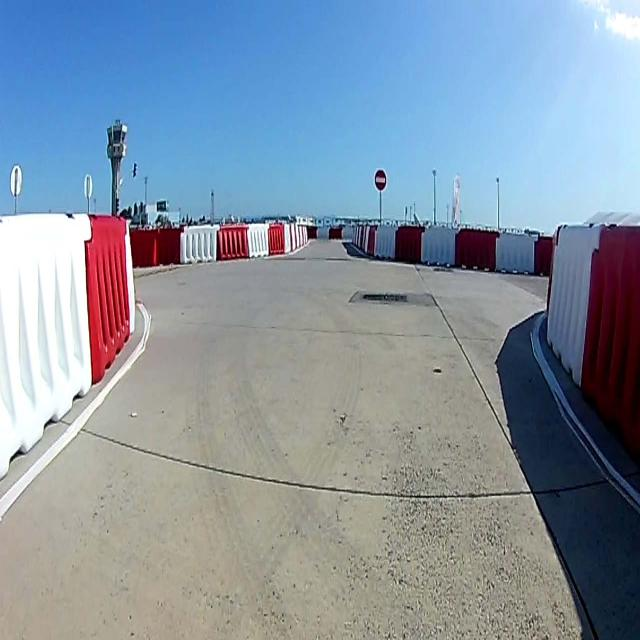girisyok: (375, 169, 387, 191)
